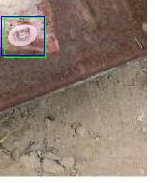text: (4, 17, 45, 57)
